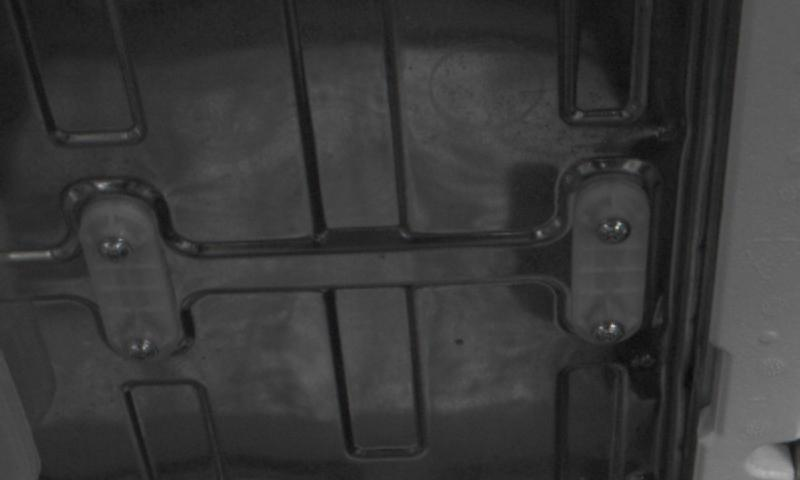vida-ok: (596, 210, 639, 255), (93, 225, 133, 270), (120, 329, 162, 369), (588, 315, 628, 353)
